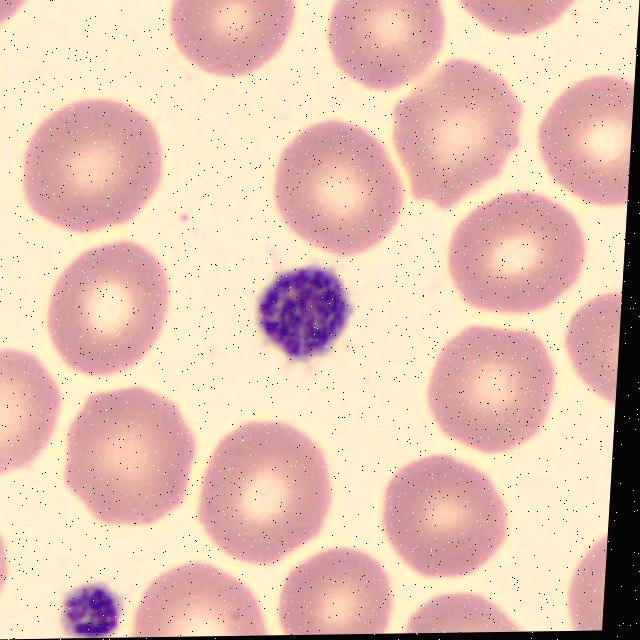platelets: (247, 265, 357, 369), (42, 576, 133, 639)
rbc: (48, 385, 208, 535), (191, 419, 341, 569), (385, 61, 526, 209), (262, 119, 410, 260), (40, 238, 182, 379), (415, 325, 562, 457), (379, 453, 516, 586), (439, 194, 591, 311), (523, 76, 635, 209), (317, 0, 452, 97), (272, 536, 402, 635), (132, 555, 278, 637), (166, 0, 300, 88), (557, 272, 623, 432), (0, 342, 66, 485), (443, 0, 595, 57), (398, 584, 534, 634), (557, 528, 608, 631), (0, 504, 15, 638)
